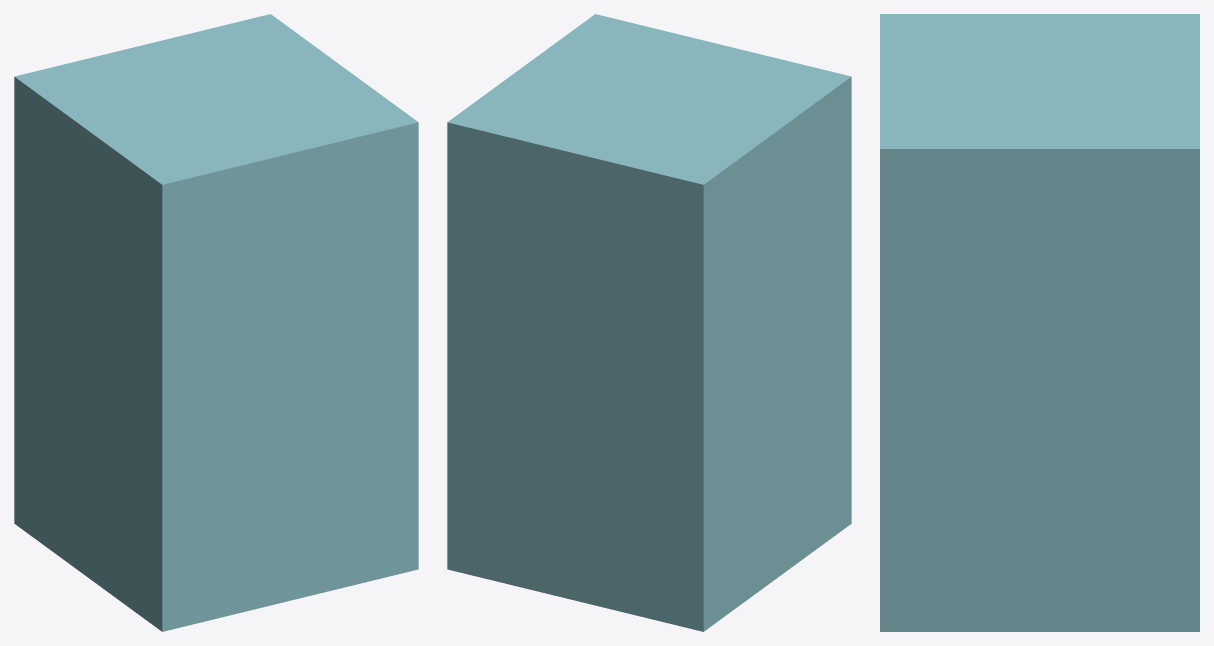
The model's file is fixture.gltf.
3 views of the same model, side by side, from view 1: azimuth 30°, elevation 25°; view 2: azimuth 150°, elevation 25°; view 3: azimuth 270°, elevation 25° (orthographic). The views are drawn at different scales.
Parts seen in each view (by area): view 1: FoundationBody; view 2: FoundationBody; view 3: FoundationBody.
Part boxes in pixels (<box>): FoundationBody: <box>14,14,418,631</box>; FoundationBody: <box>447,14,851,631</box>; FoundationBody: <box>880,14,1199,631</box>.
Bounding box in the file's own units: 0.6 × 1 × 0.6.
